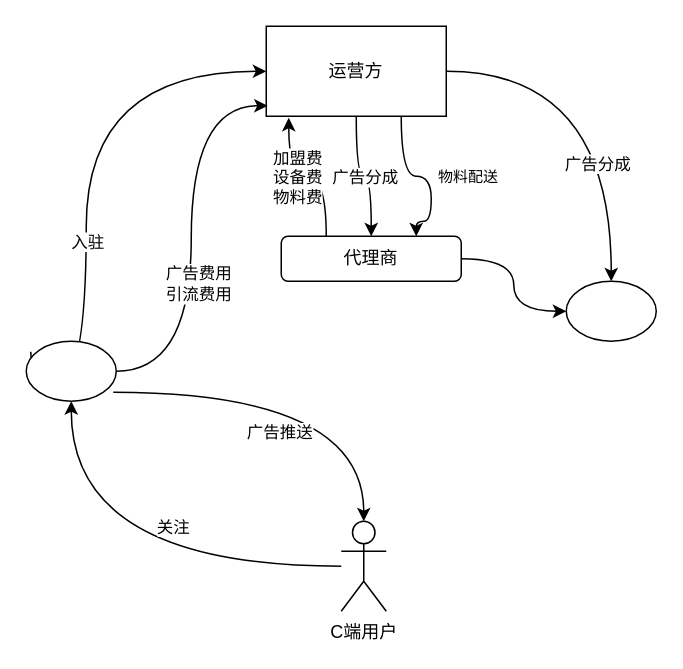
Image size: 683x669. Some labels were removed from this diagram. Here are the shapes that lost their labels. From the top down, the centre of each, then its label:
point 610,310: 场地方
point 70,370: 商户
